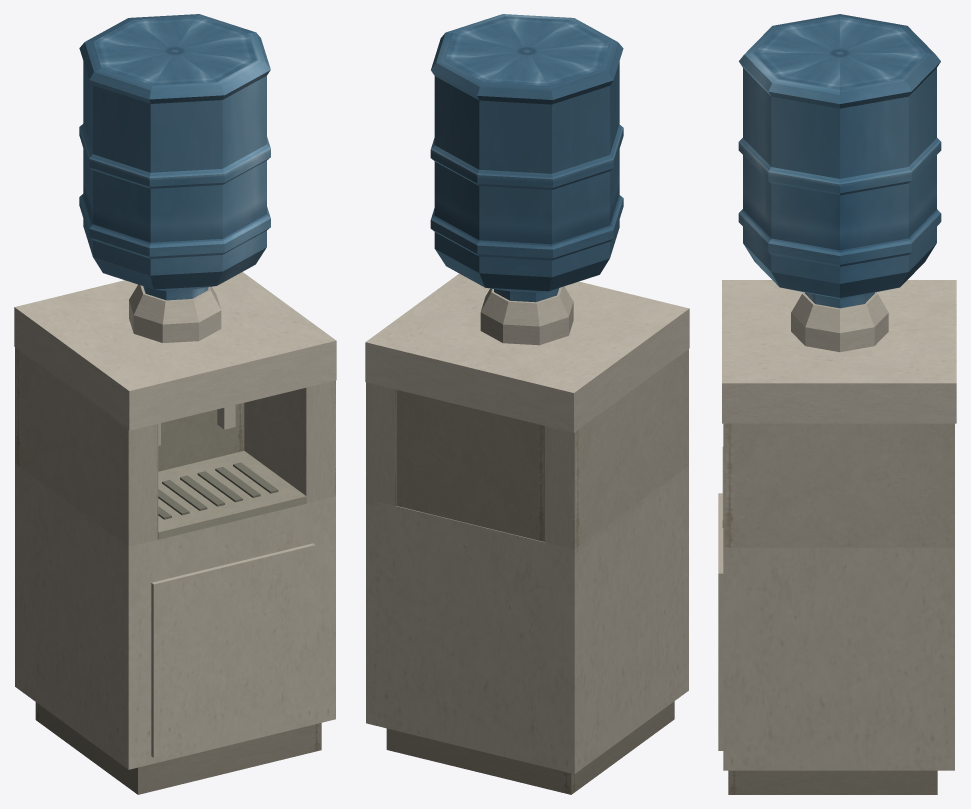
The model's file is water_cooler.glb.
The picture shows the model from 3 angles, left to right: view 1: azimuth 30°, elevation 25°; view 2: azimuth 150°, elevation 25°; view 3: azimuth 270°, elevation 25°; orthographic projection. The views are drawn at different scales.
Visible parts, largest first — view 1: core_water_cooler; view 2: core_water_cooler; view 3: core_water_cooler.
Boxes of the visible parts, left/top/right/bottom form: core_water_cooler: left=14, top=14, right=336, bottom=794; core_water_cooler: left=365, top=14, right=689, bottom=794; core_water_cooler: left=718, top=14, right=956, bottom=794.
Bounding box in the file's own units: 0.35 × 1.1 × 0.341.
Materials: 1 (1 with a texture image).
